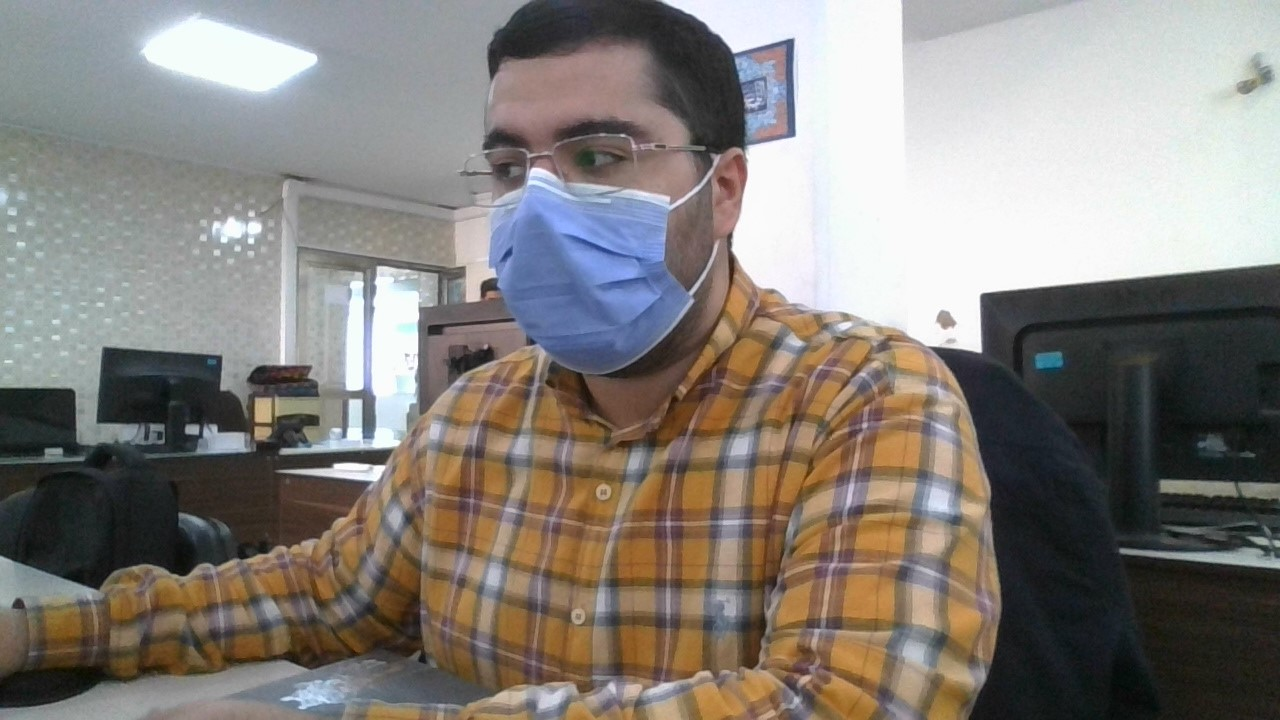Mask: (485, 167, 717, 374)
